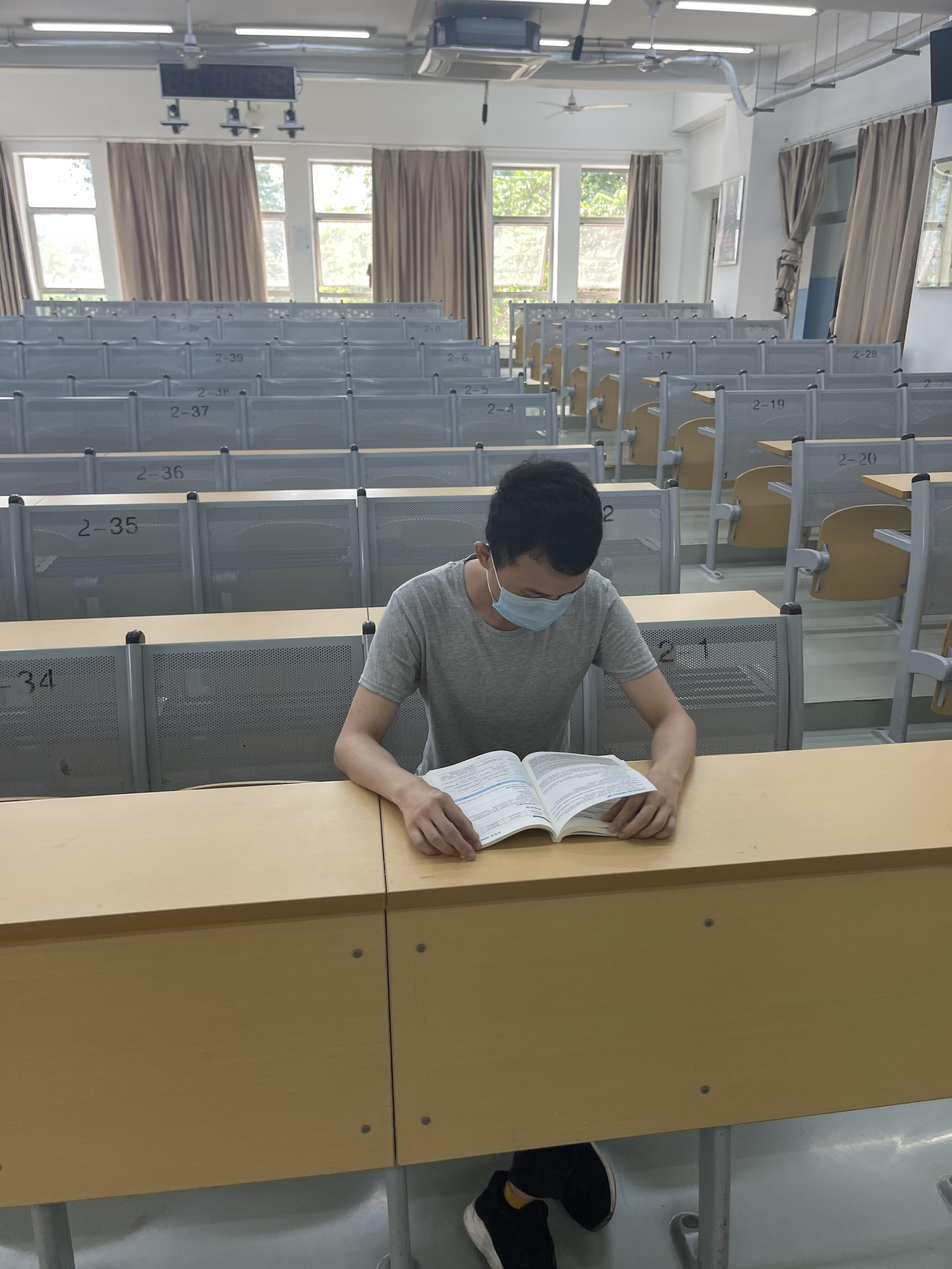study: (336, 459, 695, 845)
